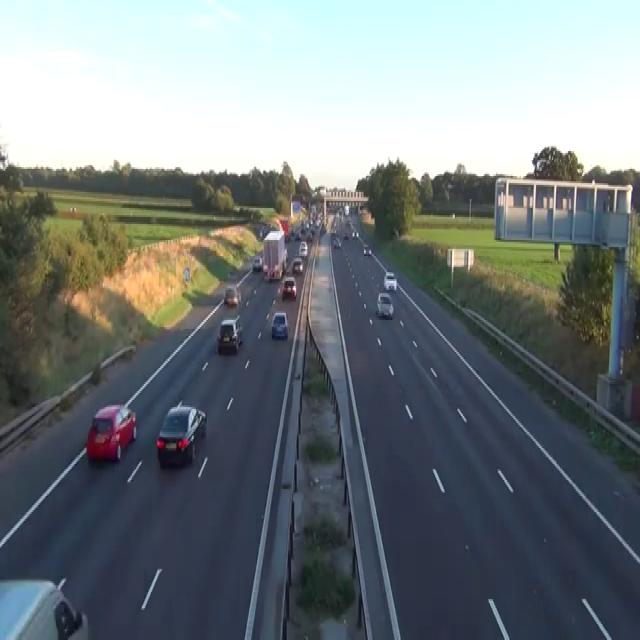Car: (0, 576, 88, 638), (156, 400, 207, 468), (87, 404, 136, 462), (216, 314, 242, 354), (271, 311, 288, 338), (376, 292, 393, 318), (223, 286, 241, 306), (281, 276, 297, 298), (259, 222, 279, 238), (383, 270, 397, 290), (252, 254, 262, 272), (298, 240, 308, 258), (292, 256, 303, 272), (259, 224, 268, 238), (283, 247, 288, 270), (332, 237, 341, 247), (269, 222, 279, 231), (363, 244, 371, 254), (327, 202, 335, 212), (284, 231, 290, 242), (351, 230, 358, 238), (392, 228, 399, 236), (320, 224, 326, 233), (294, 231, 300, 240), (306, 233, 312, 242), (259, 228, 264, 238), (263, 263, 268, 272), (284, 247, 287, 260), (343, 231, 348, 238), (355, 231, 359, 238)
Truck: (262, 227, 287, 281)
